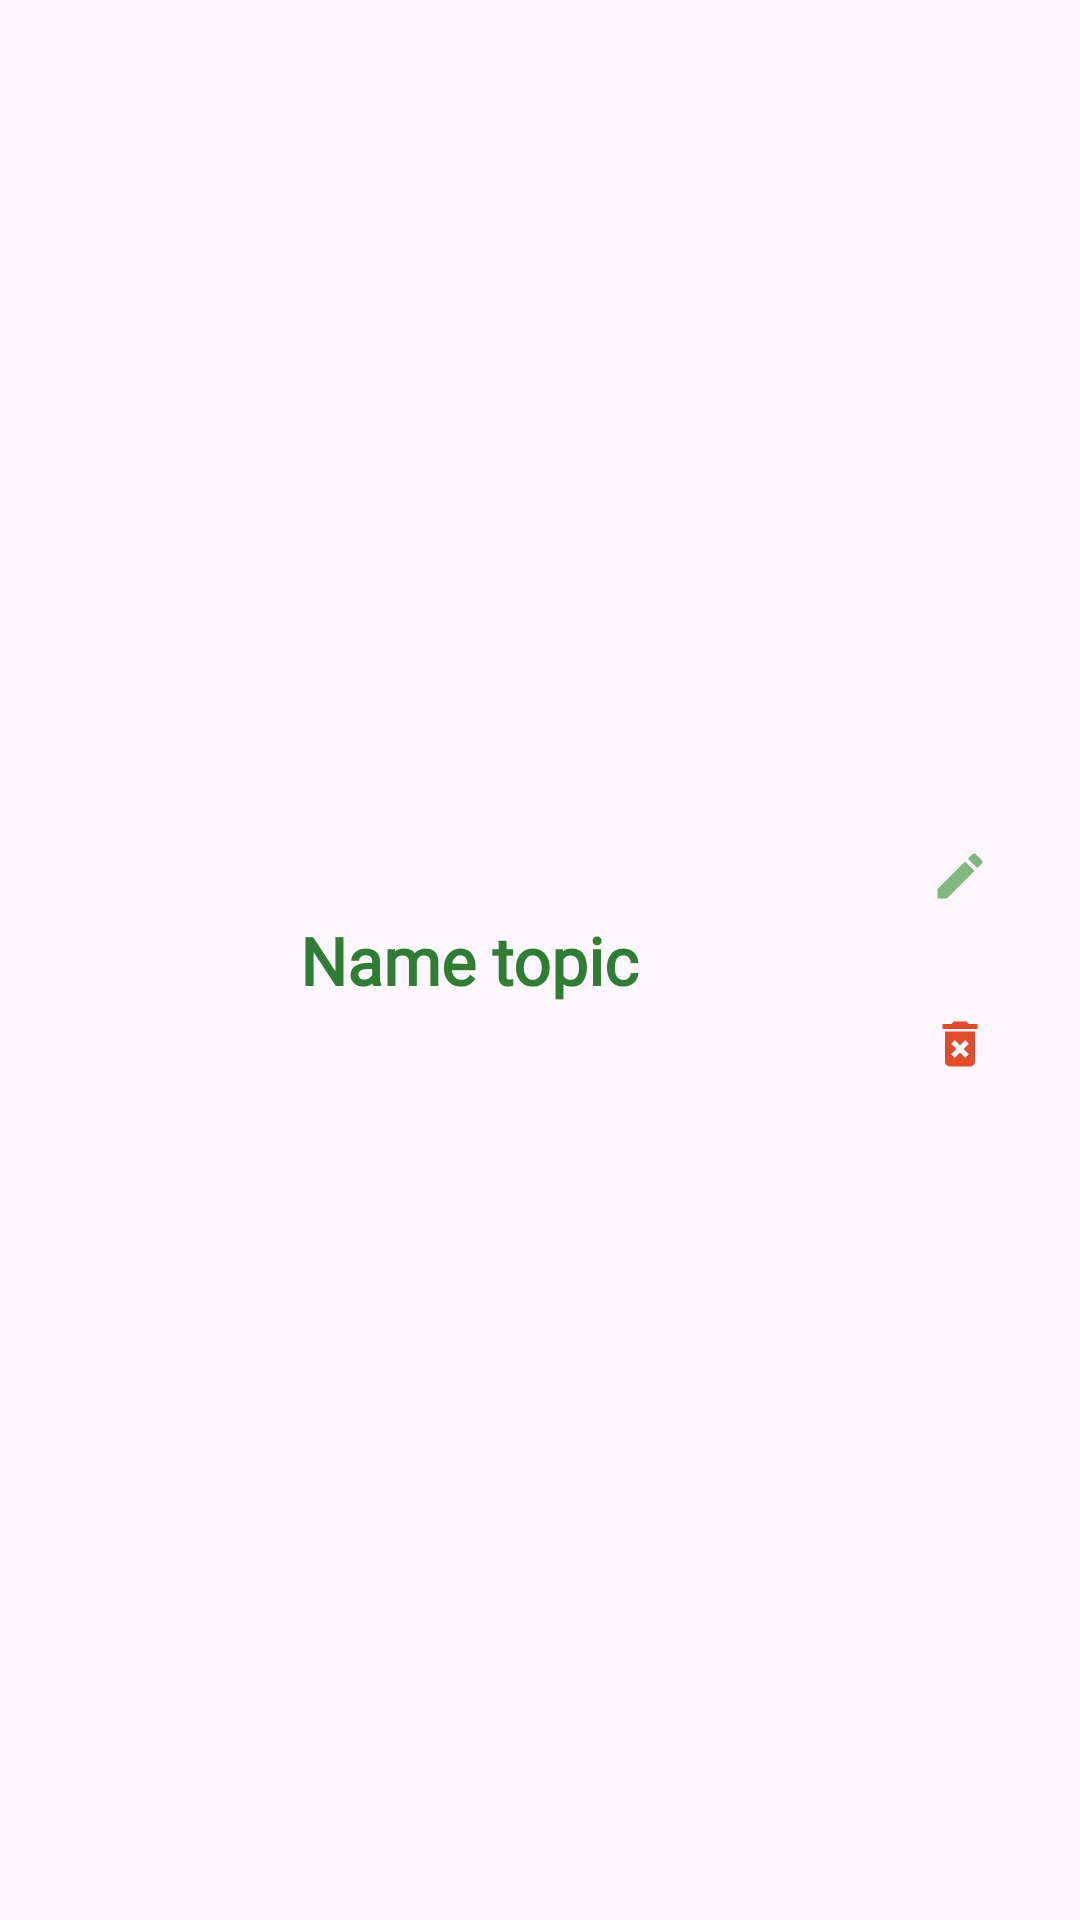

Icon click points for this 1080×1920 phone screenshot, format (x=x, y=y):
delete forever: (x=960, y=1044)
edit: (x=960, y=876)
